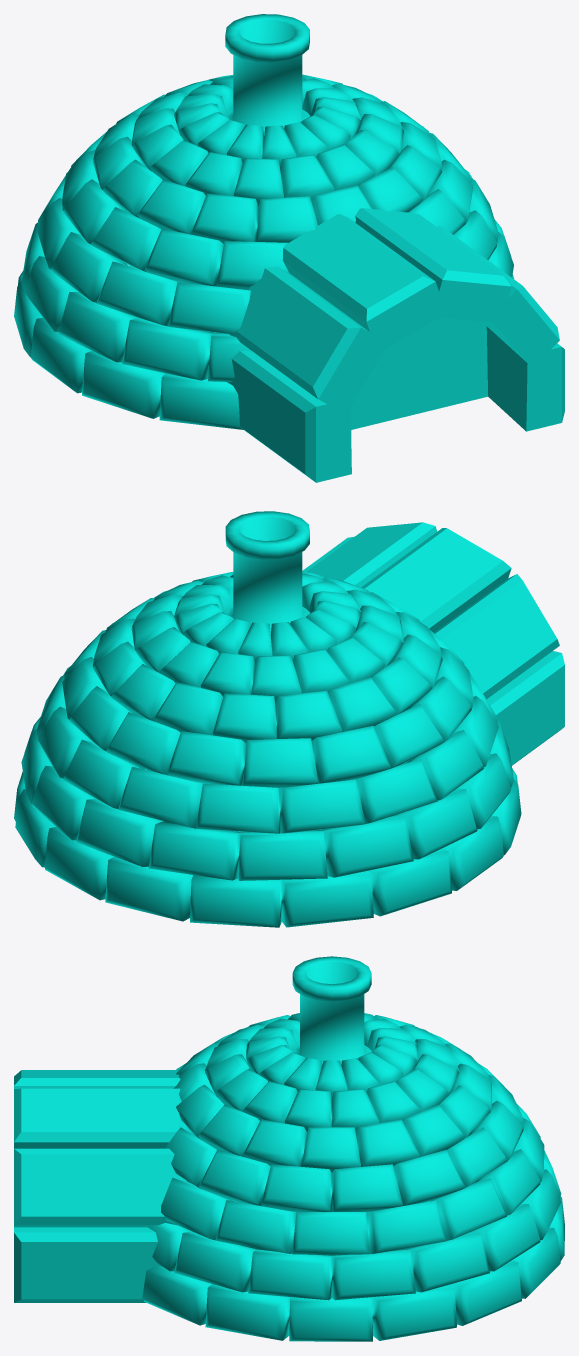
File: Igloo.gltf
The picture shows the model from 3 angles, top to bottom: view 1: azimuth 30°, elevation 25°; view 2: azimuth 150°, elevation 25°; view 3: azimuth 270°, elevation 25°; orthographic projection. The views are drawn at different scales.
Parts seen in each view (by area): view 1: Door, Wall_09, Wall_07, Wall_03, Wall_05, Wall_01, Wall_11, Chimney, Wall_13, Wall_12, Wall_10, Wall_14 (+3 smaller); view 2: Door, Wall_03, Wall_07, Wall_01, Wall_05, Wall_09, Wall_11, Wall_06, Wall_02, Chimney, Wall_10, Wall_04 (+4 smaller); view 3: Door, Wall_04, Wall_02, Wall_06, Wall_08, Wall_10, Wall_12, Chimney, Wall_14, Wall_13, Wall_11, Wall_09 (+1 smaller).
Part boxes in pixels (x1,y1,x2,y2): Door: [227, 208, 564, 482]; Wall_09: [93, 94, 372, 243]; Wall_07: [62, 132, 288, 289]; Wall_03: [21, 222, 251, 381]; Wall_05: [36, 168, 250, 334]; Wall_01: [14, 271, 243, 429]; Wall_11: [131, 80, 334, 205]; Chimney: [225, 14, 309, 135]; Wall_13: [174, 84, 328, 166]; Wall_12: [208, 74, 403, 190]; Wall_10: [359, 93, 442, 212]; Wall_14: [210, 76, 361, 149]; Door: [302, 522, 564, 765]; Wall_03: [148, 720, 513, 880]; Wall_07: [167, 622, 473, 788]; Wall_01: [190, 768, 521, 927]; Wall_05: [196, 666, 498, 833]; Wall_09: [213, 592, 442, 743]; Wall_11: [200, 577, 403, 703]; Wall_06: [36, 666, 202, 828]; Wall_02: [14, 771, 193, 921]; Chimney: [225, 511, 309, 633]; Wall_10: [93, 590, 222, 735]; Wall_04: [21, 716, 163, 866]; Door: [14, 1070, 186, 1302]; Wall_04: [148, 1169, 561, 1300]; Wall_02: [142, 1196, 564, 1341]; Wall_06: [161, 1118, 544, 1255]; Wall_08: [165, 1101, 523, 1212]; Wall_10: [176, 1063, 491, 1172]; Wall_12: [205, 1054, 459, 1132]; Chimney: [292, 956, 371, 1064]; Wall_14: [247, 1036, 417, 1100]; Wall_13: [246, 1014, 416, 1059]; Wall_11: [205, 1013, 459, 1071]; Wall_09: [173, 1026, 489, 1101].
Size of the model in its own units: 6.28 by 4.08 by 7.43.
